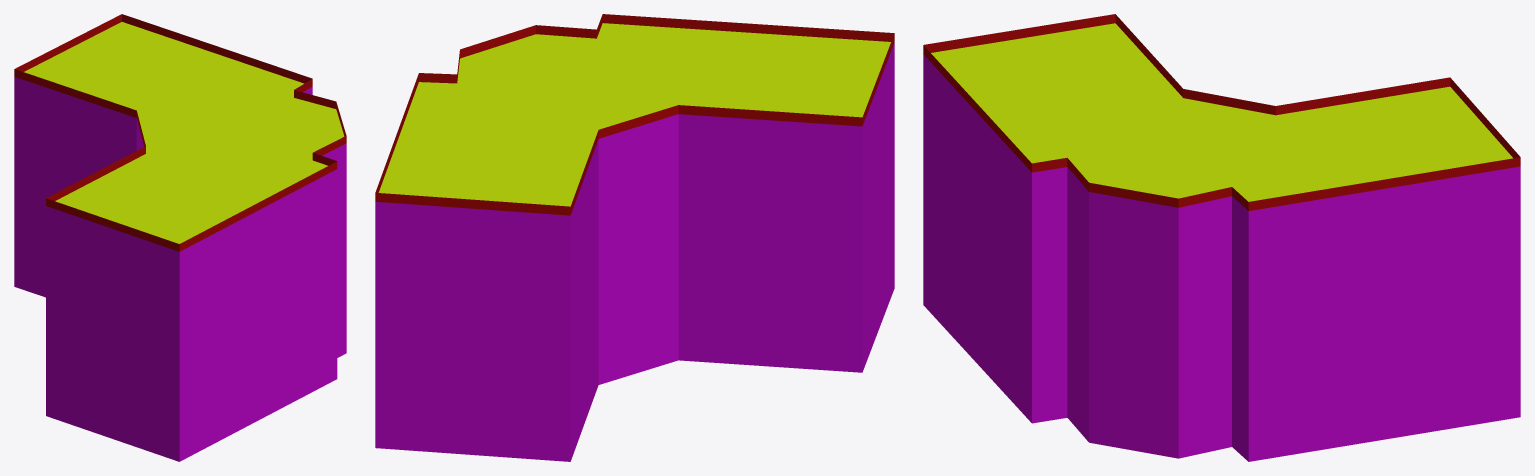
The model's file is rmc_104.glb.
3 renders of one model, left to right at view 1: azimuth 30°, elevation 25°; view 2: azimuth 150°, elevation 25°; view 3: azimuth 270°, elevation 25°, orthographic. The views are drawn at different scales.
Parts seen in each view (by area): view 1: rmc_104; view 2: rmc_104; view 3: rmc_104.
Boxes of the visible parts, <box> form: rmc_104: <box>14,14,346,461</box>; rmc_104: <box>375,14,894,461</box>; rmc_104: <box>923,14,1520,461</box>.
Size of the model in its own units: 15.23 by 9.83 by 20.46.
